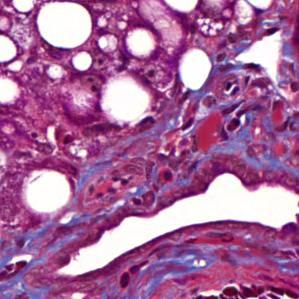steatosis: (36, 3, 93, 50), (178, 49, 213, 92)
